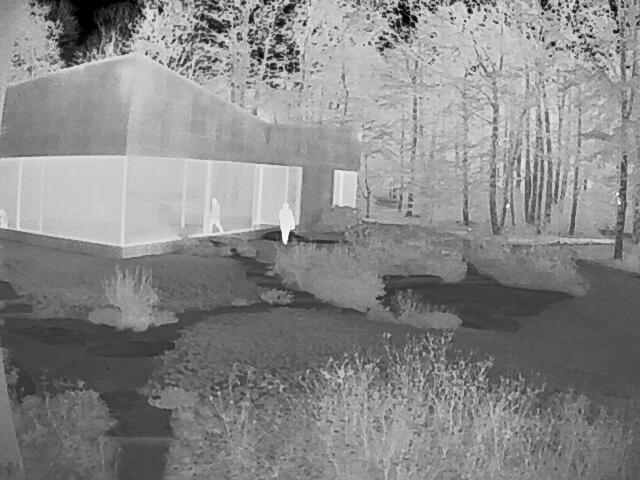person: (276, 202, 295, 245), (209, 197, 222, 232)
